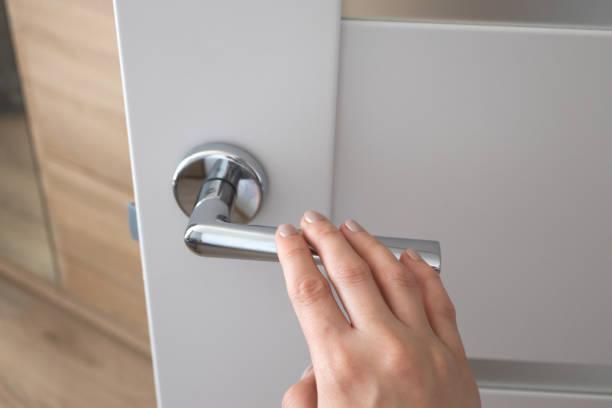doorhandle: (153, 139, 471, 305)
